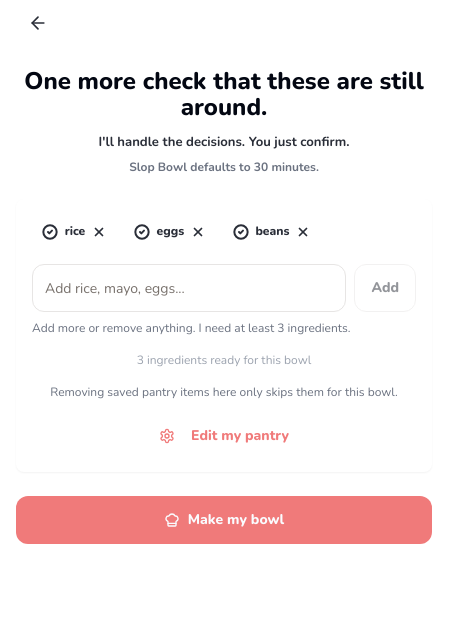
Test case: SlopBowl pantry check visual grammar › renders manual temporary additions as coral plus chips with visible remove affordances
Type "mayo" into the field with placeholder "Add rice, mayo, eggs...". click: point(189, 288)
box: x1=32 y1=264 x2=346 y2=312
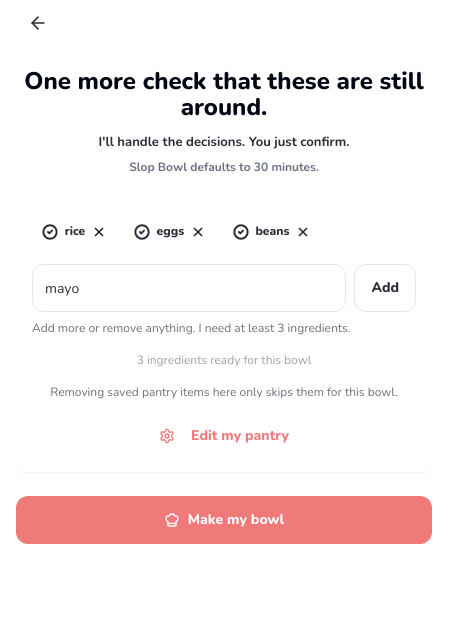
Click the button "Add". click: point(385, 288)
box: x1=354 y1=264 x2=416 y2=312
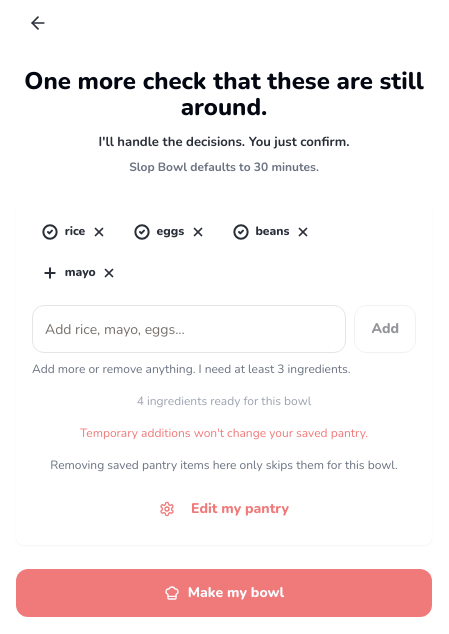
Now the 4th icon with class "slop-check-chip-status" is shown, box x1=42 y1=265 x2=58 y2=281
Now the 4th icon with class "slop-check-chip-remove-icon" is shown, box x1=102 y1=266 x2=116 y2=280
Now the text "Temporary additions won't change your saved pantry." is shown, box x1=80 y1=425 x2=368 y2=441
